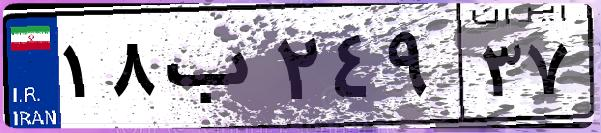1: (57, 26, 110, 100)
2: (270, 28, 330, 110)
3: (475, 38, 525, 113)
4: (330, 28, 385, 110)
7: (525, 38, 570, 115)
8: (110, 28, 158, 98)
9: (385, 28, 445, 110)
ب: (158, 20, 270, 120)
